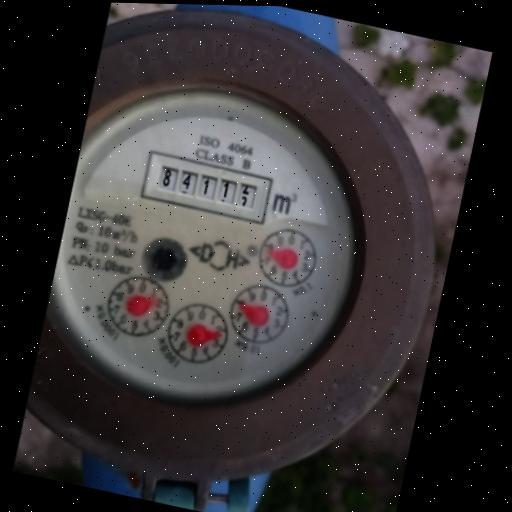1: (199, 175, 218, 200), (219, 180, 236, 204)
2: (239, 184, 257, 208)
4: (179, 172, 199, 196)
8: (158, 167, 178, 193)
border_water_meter_number: (139, 150, 274, 225)
